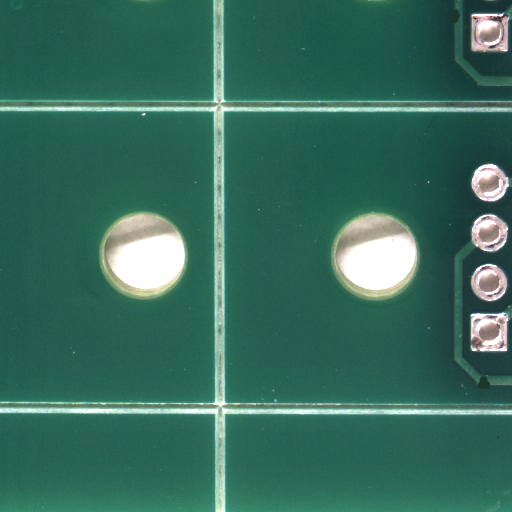Mouse_bite: (483, 382, 496, 395), (456, 16, 464, 34)
